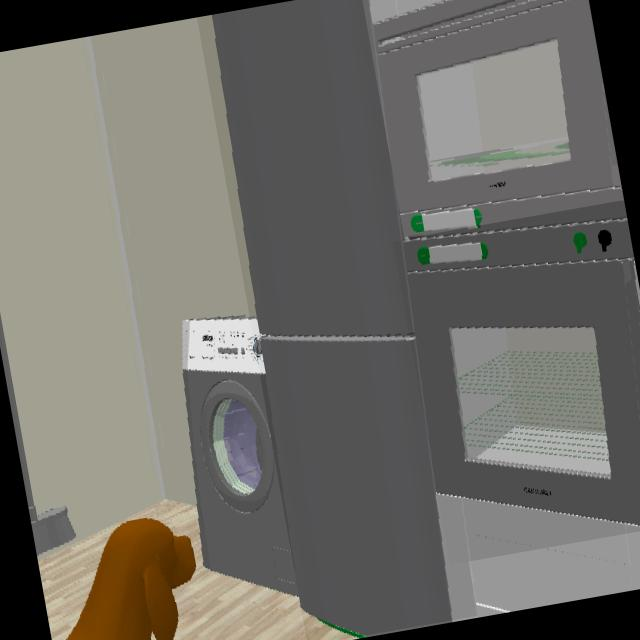fridge: (213, 0, 450, 635)
microwave: (375, 0, 625, 239)
oven: (406, 221, 640, 527)
